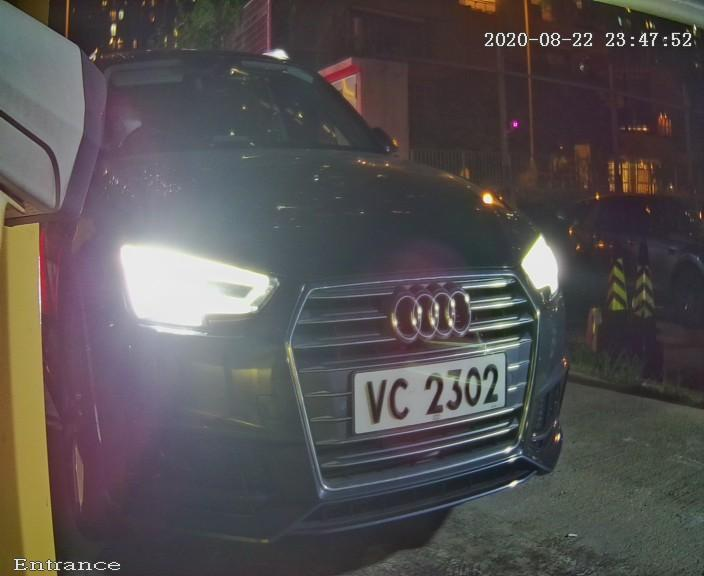Car: (1, 1, 629, 559)
License Plate: (340, 350, 519, 438)
